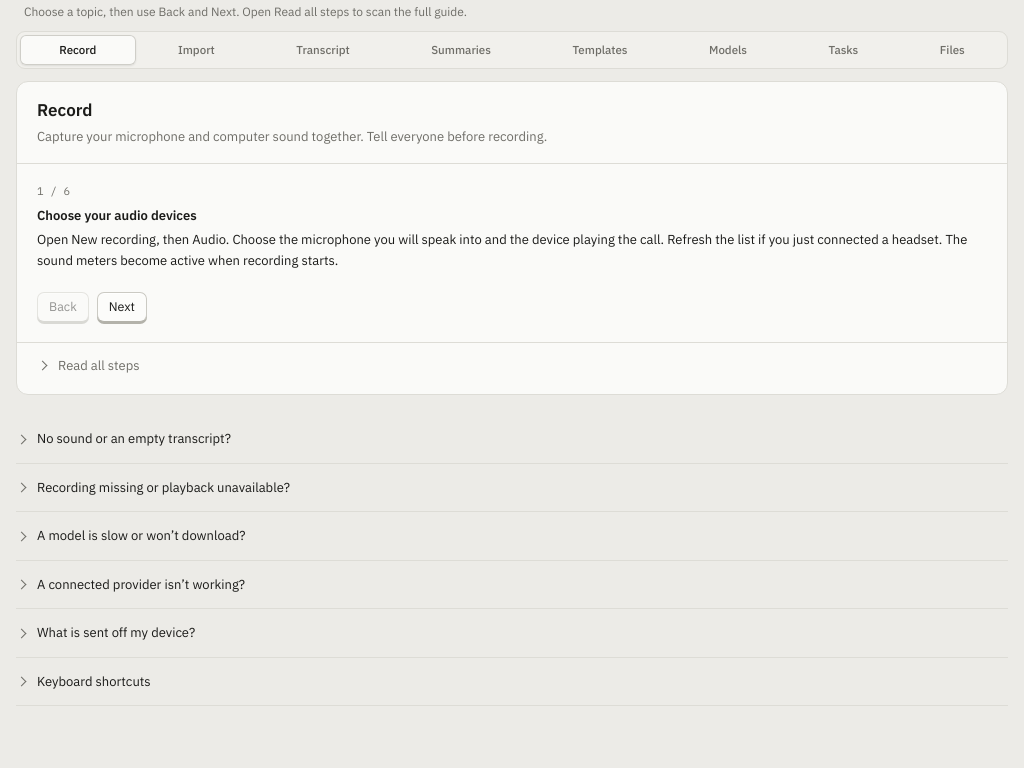
Help keeps each step visible until Back, Next or a topic is chosen
Expected: the button "Back" is disabled, [37,292,89,322]
Click the button "Next" at point(122, 307), box [97,292,147,322]
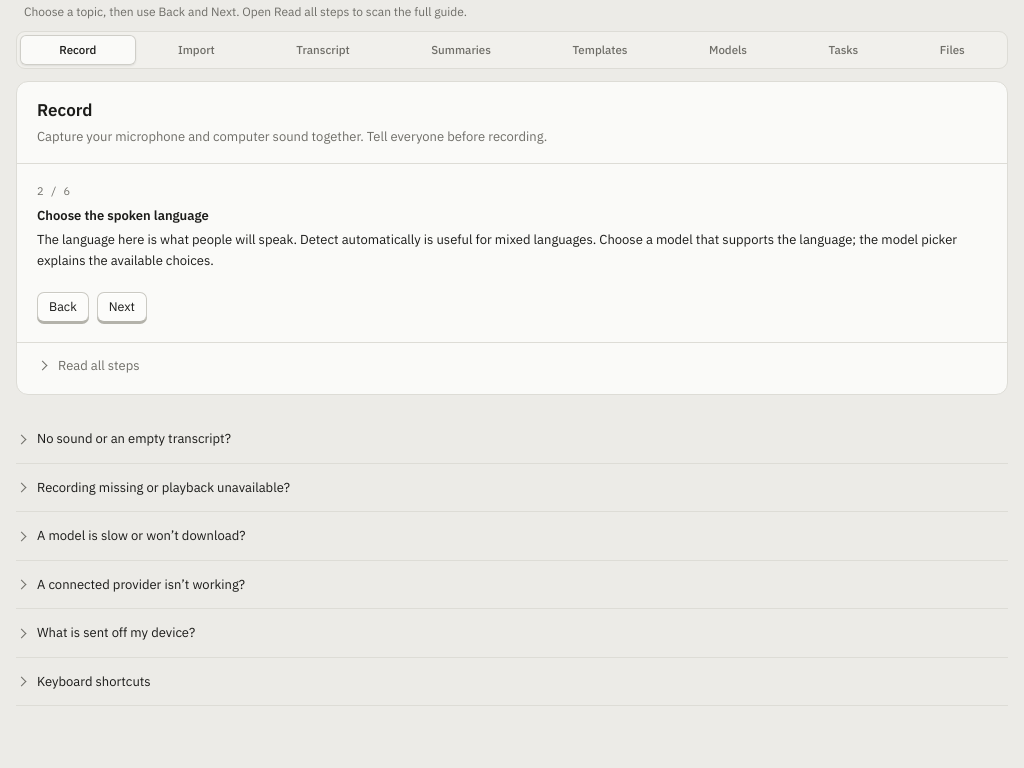
Expected: the heading "Choose the spoken language" is shown, [37,207,209,224]
Click the button "Back" at point(63, 307), box [37,292,89,322]
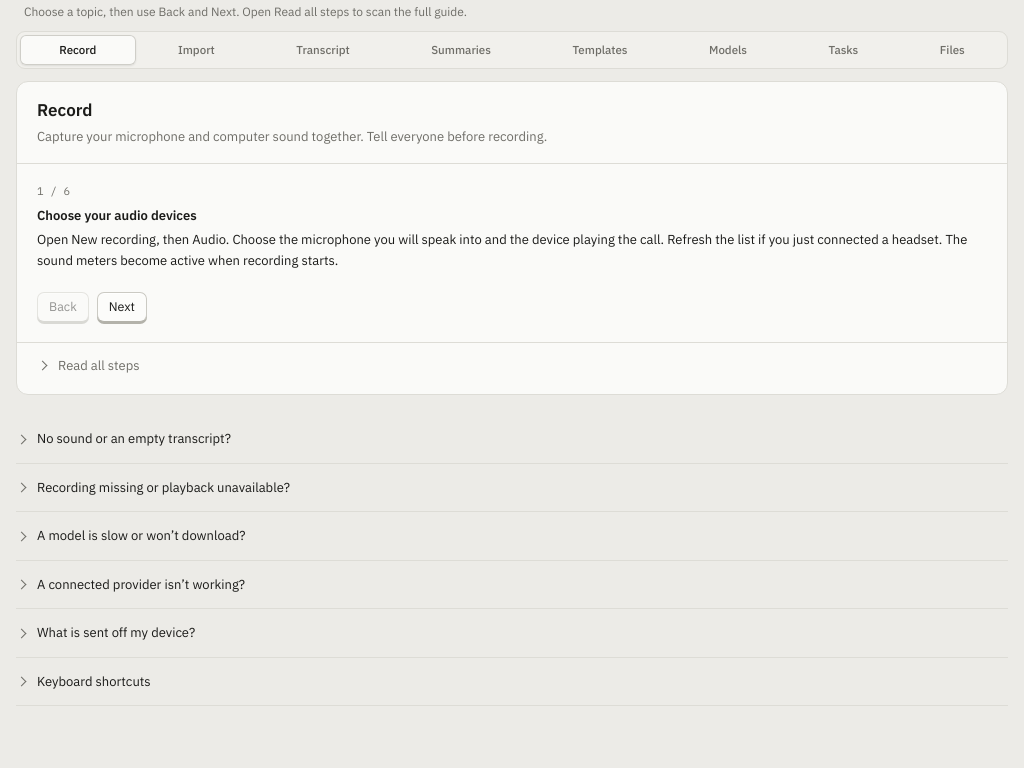
Expected: the heading "Choose your audio devices" is shown, [37,207,197,224]
Click the tab "Import" at point(196, 50), box [139,35,254,65]
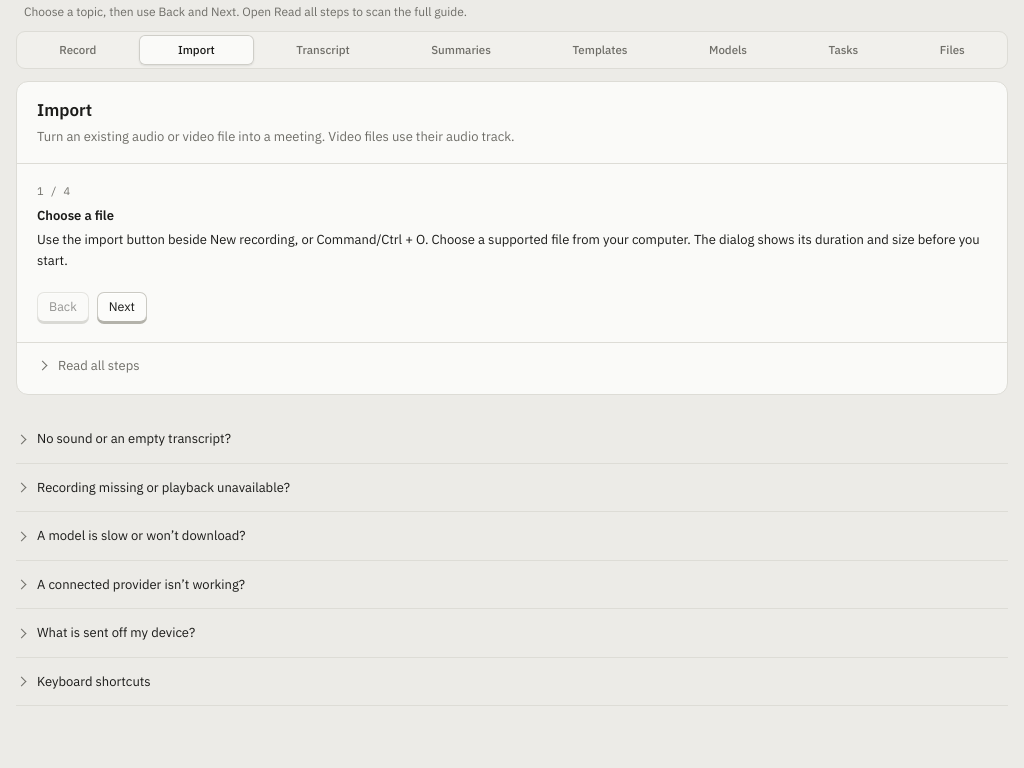
Expected: the heading "Choose a file" is shown, [37,207,114,224]
